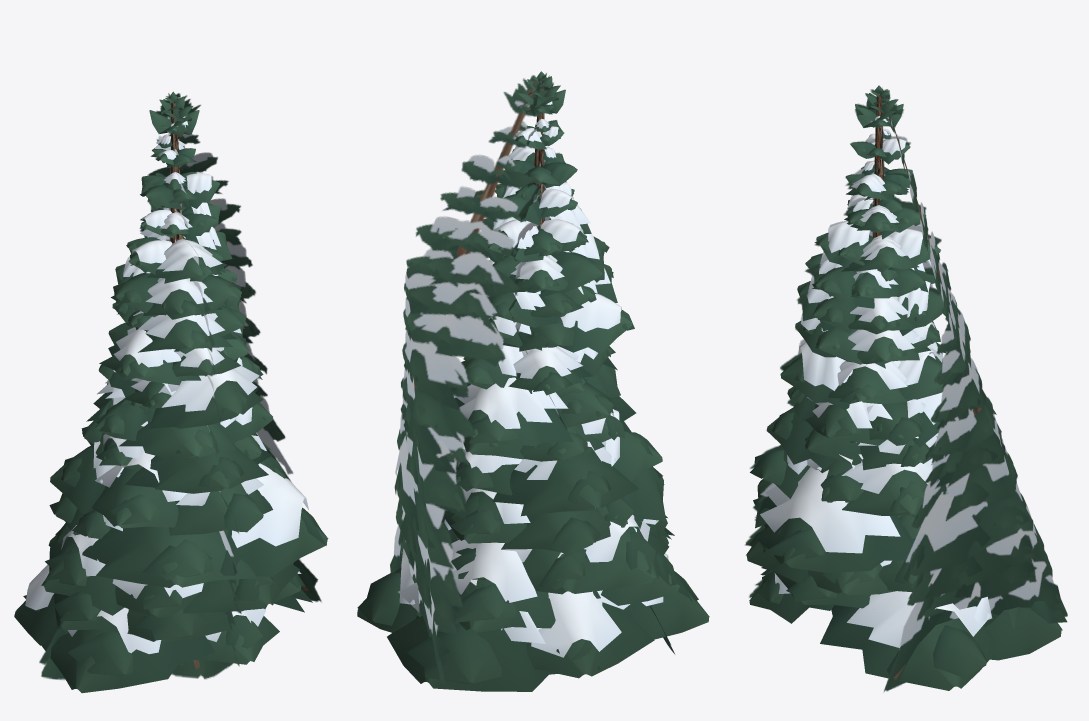
The model's file is tree10.glb.
3 views of the same model, side by side, from view 1: azimuth 30°, elevation 25°; view 2: azimuth 150°, elevation 25°; view 3: azimuth 270°, elevation 25° (orthographic). The views are drawn at different scales.
Visible parts, largest first — view 1: Alpine10_1, Alpine10_2, Empty.004; view 2: Alpine10_1, Empty.004, Alpine10_2; view 3: Alpine10_1, Empty.004, Alpine10_2, Alpine10_0.
Boxes of the visible parts, x1,y1,x2,y2 form: Alpine10_1: (14,91,328,693); Alpine10_2: (25,116,308,654); Empty.004: (39,93,321,679); Alpine10_1: (357,71,709,691); Empty.004: (390,73,674,683); Alpine10_2: (398,101,668,657); Alpine10_1: (746,85,1067,690); Empty.004: (745,88,1067,691); Alpine10_2: (760,116,991,647); Alpine10_0: (872,94,884,239).
Bounding box in the file's own units: 8.98 × 16.53 × 9.11.
Materials: 4 (2 with a texture image).
